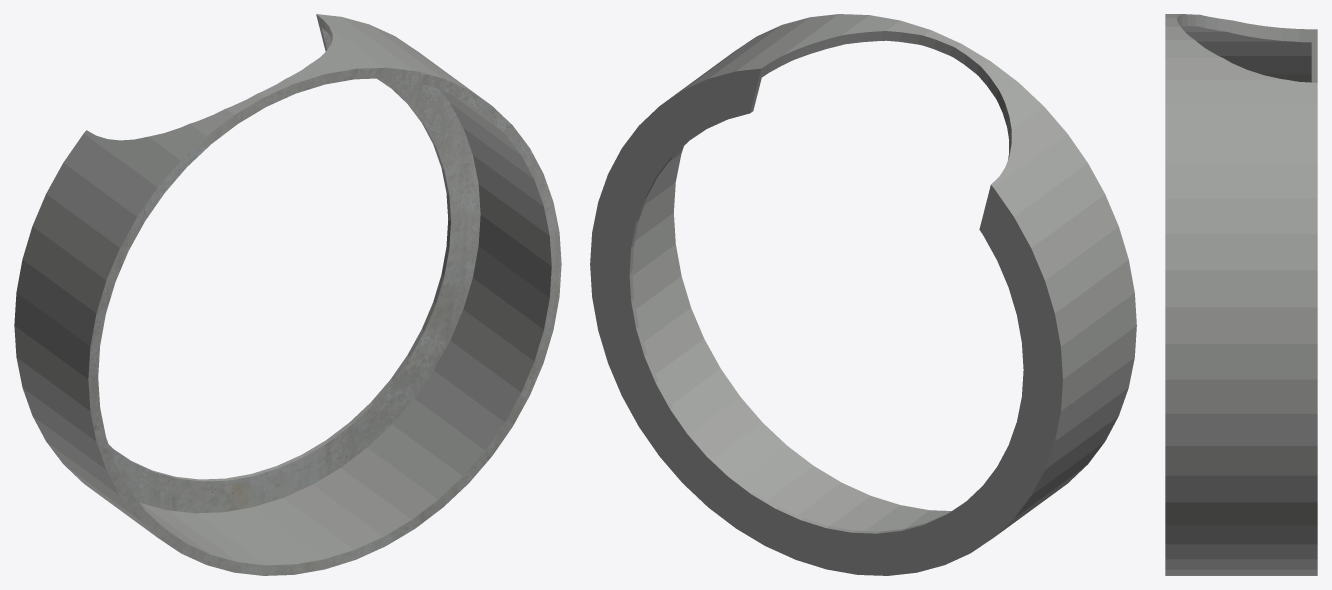
The model's file is pool_006.obj.
3 views of the same model, side by side, from view 1: azimuth 30°, elevation 25°; view 2: azimuth 150°, elevation 25°; view 3: azimuth 270°, elevation 25° (orthographic). The views are drawn at different scales.
Bounding box in the file's own units: 48 × 48 × 13.
